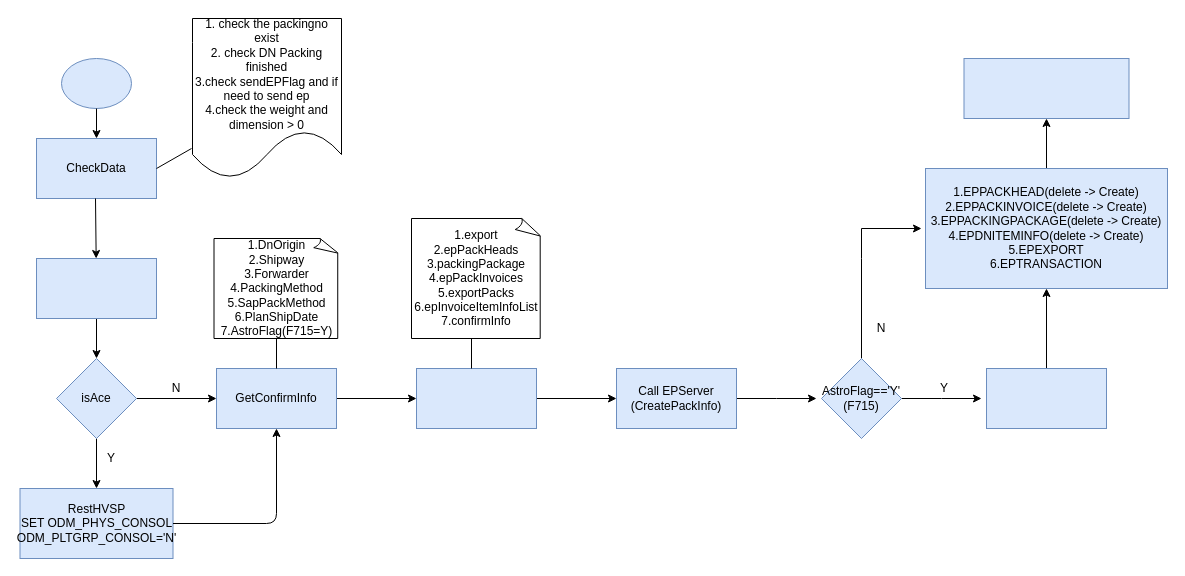
This 1185x576 diagram has some shape labels left out. The shapes that lost their labels are listed below. From the top down, each one's centre as x and y in pixels, then its label:
At point 96,83: "Start".
At point 1046,88: "update dn status and insert into PPTRANSACTION".
At point 96,288: "Update PPPACKPLAN (PALLETMATERIAL \PALLETINERMATERIAL) )".
At point 476,398: "GetConfirmData".
At point 1046,398: "CreateAstroPack".
